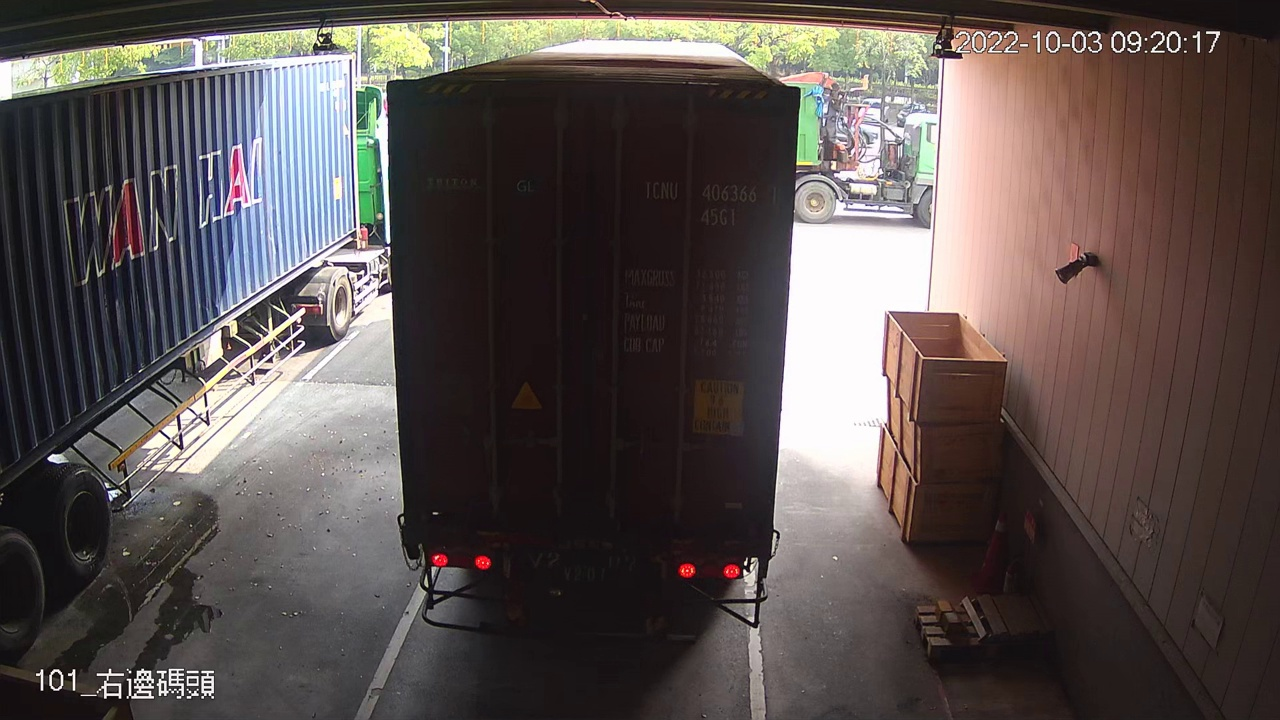container: (638, 170, 783, 232)
